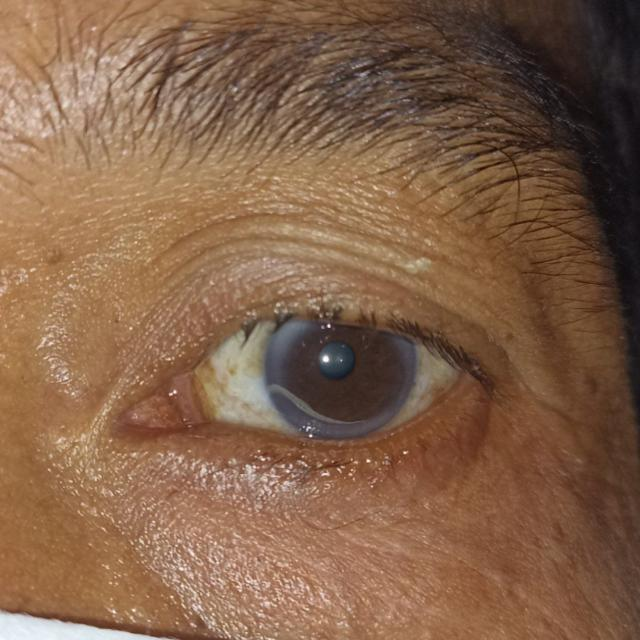Cataract: (263, 287, 412, 448)
